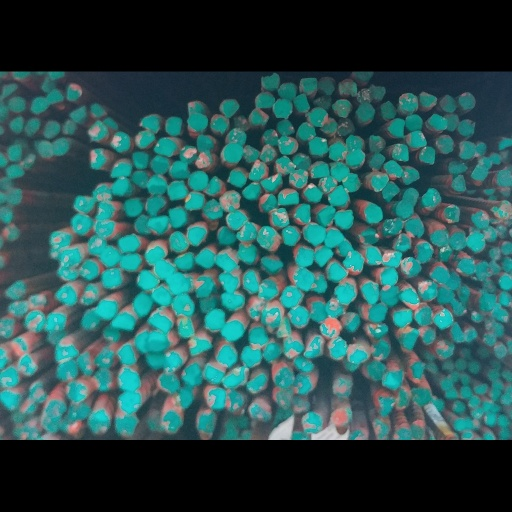dipstick: (194, 469, 219, 511), (221, 407, 250, 441), (114, 472, 140, 509), (360, 318, 390, 350), (67, 193, 94, 228), (256, 213, 280, 252), (215, 377, 241, 413), (164, 279, 195, 309), (131, 302, 154, 342), (181, 402, 205, 440), (146, 330, 175, 361), (293, 418, 320, 451), (332, 292, 359, 325), (258, 251, 285, 284), (271, 109, 297, 143), (411, 232, 435, 268), (225, 439, 247, 478), (95, 314, 121, 347), (98, 240, 124, 273), (289, 270, 314, 304), (171, 307, 196, 341), (419, 159, 443, 194), (79, 327, 105, 359), (304, 364, 327, 400), (202, 400, 225, 436), (88, 466, 111, 502), (287, 325, 312, 358), (220, 345, 247, 375), (78, 260, 105, 290), (137, 56, 163, 87), (153, 260, 179, 291), (99, 272, 125, 303), (388, 91, 411, 126), (153, 88, 178, 120), (239, 377, 264, 409), (221, 96, 245, 129), (399, 124, 423, 157), (279, 296, 303, 329), (259, 323, 281, 359), (160, 467, 184, 500), (187, 366, 215, 394), (306, 84, 329, 118), (203, 329, 226, 363), (193, 84, 219, 114), (118, 446, 144, 476), (115, 221, 141, 251), (57, 245, 83, 275), (174, 97, 199, 128), (185, 134, 210, 165), (215, 248, 240, 279), (396, 25, 418, 60), (303, 209, 325, 244), (318, 59, 342, 91), (440, 180, 464, 212), (431, 326, 455, 358), (245, 308, 265, 346), (147, 111, 170, 144), (271, 408, 294, 441), (203, 435, 226, 468), (194, 282, 217, 315), (136, 272, 163, 300), (110, 333, 136, 362), (85, 67, 111, 96), (219, 164, 244, 194), (257, 284, 279, 318), (245, 419, 269, 450), (157, 417, 181, 448), (96, 180, 120, 211), (275, 84, 298, 116), (432, 82, 455, 114), (396, 354, 419, 386), (340, 331, 363, 363), (327, 90, 348, 125), (218, 305, 246, 331), (143, 388, 169, 416), (151, 359, 177, 387), (53, 297, 79, 325), (163, 59, 185, 92), (218, 31, 240, 64), (417, 288, 439, 321), (94, 381, 116, 414), (109, 80, 131, 113), (150, 298, 175, 327), (469, 119, 488, 157), (377, 150, 401, 180), (301, 472, 325, 502), (240, 273, 260, 309), (201, 175, 225, 205), (405, 399, 426, 433), (327, 368, 348, 402), (248, 350, 269, 384), (327, 122, 350, 153), (361, 179, 384, 210), (400, 255, 423, 286), (340, 138, 363, 169), (302, 152, 325, 183), (119, 413, 142, 444), (79, 295, 102, 326), (386, 61, 408, 93), (425, 53, 447, 85), (368, 135, 390, 167), (327, 156, 349, 188), (186, 210, 208, 242), (457, 22, 476, 59), (275, 13, 301, 40), (61, 482, 87, 509), (418, 21, 438, 56), (457, 90, 477, 125), (284, 365, 304, 400), (375, 268, 399, 297), (345, 378, 369, 407), (217, 277, 241, 306), (23, 332, 47, 361), (308, 316, 329, 349), (236, 235, 257, 268), (175, 338, 196, 371), (186, 56, 209, 86), (416, 100, 439, 130), (209, 56, 231, 87), (296, 3, 318, 34), (307, 47, 329, 78), (169, 220, 191, 251), (93, 413, 115, 444), (343, 247, 363, 281), (444, 116, 470, 142), (108, 147, 134, 173), (46, 217, 71, 244), (226, 77, 250, 105), (169, 118, 190, 150), (297, 65, 318, 97), (260, 140, 284, 168), (86, 227, 110, 255), (45, 333, 69, 361), (4, 288, 28, 316), (270, 437, 293, 466), (88, 105, 111, 134), (53, 269, 82, 292), (354, 40, 376, 70), (381, 413, 403, 443), (332, 425, 354, 455), (329, 464, 351, 494), (268, 188, 290, 218), (55, 399, 77, 429), (0, 409, 22, 439), (240, 150, 261, 181), (429, 265, 450, 296), (131, 134, 152, 165), (201, 143, 227, 168), (147, 200, 172, 226), (54, 375, 79, 401), (390, 327, 414, 354), (225, 193, 249, 220), (441, 50, 460, 84), (247, 48, 270, 76), (469, 188, 489, 220), (361, 291, 381, 323), (330, 36, 352, 65), (336, 9, 358, 38), (308, 119, 330, 148), (334, 191, 356, 220), (320, 341, 342, 370), (145, 171, 167, 200), (31, 92, 53, 121), (439, 26, 457, 61), (337, 61, 358, 91), (315, 186, 336, 216), (379, 297, 400, 327), (372, 370, 393, 400), (248, 457, 269, 487), (312, 241, 333, 271), (194, 244, 215, 274), (167, 186, 188, 216), (119, 252, 144, 277), (70, 170, 95, 195), (380, 201, 404, 227), (325, 218, 349, 244), (174, 251, 198, 277), (133, 80, 157, 106), (91, 154, 115, 180), (344, 85, 367, 112), (183, 167, 206, 194), (400, 294, 420, 325), (262, 373, 282, 404), (411, 437, 433, 465), (365, 400, 387, 428), (458, 61, 476, 95), (366, 84, 387, 113), (403, 202, 424, 231), (326, 313, 347, 342), (448, 139, 467, 171), (226, 131, 246, 161), (241, 97, 261, 127), (404, 54, 424, 84), (467, 222, 487, 252), (414, 324, 434, 354), (145, 238, 165, 268), (117, 379, 137, 409), (108, 122, 133, 146), (28, 33, 53, 57), (293, 392, 316, 418), (490, 177, 512, 204), (326, 264, 348, 291), (147, 143, 169, 170), (6, 32, 28, 59), (378, 39, 397, 70), (19, 394, 38, 425), (236, 208, 257, 236), (216, 213, 237, 241), (400, 157, 420, 186), (475, 303, 495, 332), (377, 450, 397, 479), (292, 184, 312, 213), (281, 213, 301, 242), (164, 387, 182, 419), (367, 348, 390, 373), (68, 458, 91, 483), (260, 0, 282, 26), (272, 36, 294, 62), (194, 111, 216, 137), (342, 107, 364, 133), (258, 170, 280, 196), (131, 108, 153, 134), (28, 430, 47, 460), (318, 144, 339, 171), (65, 427, 86, 454), (65, 13, 86, 40), (2, 211, 23, 238), (318, 4, 338, 32), (274, 60, 294, 88), (381, 244, 401, 272), (248, 122, 268, 150), (175, 440, 195, 468), (42, 67, 62, 95), (457, 254, 475, 285), (44, 454, 67, 478), (252, 27, 274, 52), (355, 20, 377, 45), (291, 109, 313, 134), (393, 179, 414, 205), (435, 372, 456, 398), (198, 311, 219, 337), (260, 95, 277, 127), (123, 175, 143, 202), (1, 442, 21, 469), (185, 39, 209, 61), (94, 207, 118, 229), (428, 217, 449, 242), (369, 14, 387, 43), (369, 109, 387, 138), (436, 295, 456, 321), (167, 153, 187, 179), (296, 243, 315, 270), (59, 63, 78, 90), (464, 348, 480, 380), (446, 275, 463, 305), (77, 389, 92, 423), (29, 307, 52, 329), (358, 216, 379, 240), (136, 363, 154, 391), (6, 318, 30, 339), (6, 97, 24, 125), (134, 196, 150, 227), (395, 439, 410, 472), (383, 122, 402, 148), (435, 241, 454, 267), (452, 314, 469, 343), (290, 133, 308, 160), (448, 218, 466, 245), (17, 113, 37, 137), (419, 354, 437, 380), (371, 482, 389, 508), (410, 483, 428, 509), (231, 59, 251, 82), (404, 80, 427, 100), (278, 162, 298, 185), (68, 47, 88, 70), (495, 133, 512, 160), (473, 262, 490, 289), (364, 243, 382, 268), (41, 475, 59, 500), (88, 38, 106, 63), (482, 285, 499, 311), (43, 243, 64, 264), (46, 359, 68, 379), (13, 369, 32, 392), (394, 225, 412, 249), (102, 352, 120, 376), (1, 341, 17, 368), (41, 6, 59, 30), (52, 91, 69, 116), (100, 60, 120, 81), (4, 128, 26, 147), (449, 349, 465, 375), (0, 186, 16, 212), (261, 76, 278, 100), (24, 62, 41, 86), (9, 60, 24, 87), (336, 232, 354, 254), (46, 25, 64, 47), (6, 163, 23, 186), (473, 93, 488, 118), (495, 86, 512, 108), (430, 450, 446, 473), (393, 491, 411, 511), (1, 13, 19, 33), (484, 339, 500, 361), (487, 240, 502, 263), (493, 348, 508, 371), (21, 452, 37, 473), (484, 213, 497, 238), (488, 259, 502, 282), (475, 380, 491, 400), (450, 455, 466, 475), (488, 110, 503, 131), (290, 452, 305, 473), (458, 295, 471, 319), (493, 374, 506, 398), (497, 282, 511, 304), (498, 304, 512, 326), (439, 423, 455, 442), (499, 232, 511, 257), (470, 463, 485, 483), (472, 331, 486, 352), (484, 473, 498, 494), (458, 436, 475, 453), (458, 381, 474, 399), (496, 328, 509, 350), (497, 473, 510, 495), (489, 439, 503, 459), (481, 361, 495, 380), (441, 398, 455, 417), (468, 400, 481, 420), (459, 416, 472, 436), (454, 480, 467, 500), (490, 428, 506, 444), (444, 441, 460, 457), (465, 449, 480, 466), (449, 414, 463, 432), (497, 493, 511, 511), (486, 412, 500, 429), (473, 431, 487, 448), (489, 397, 503, 413), (498, 211, 508, 232), (456, 398, 467, 416), (482, 496, 495, 511), (427, 402, 438, 418)
